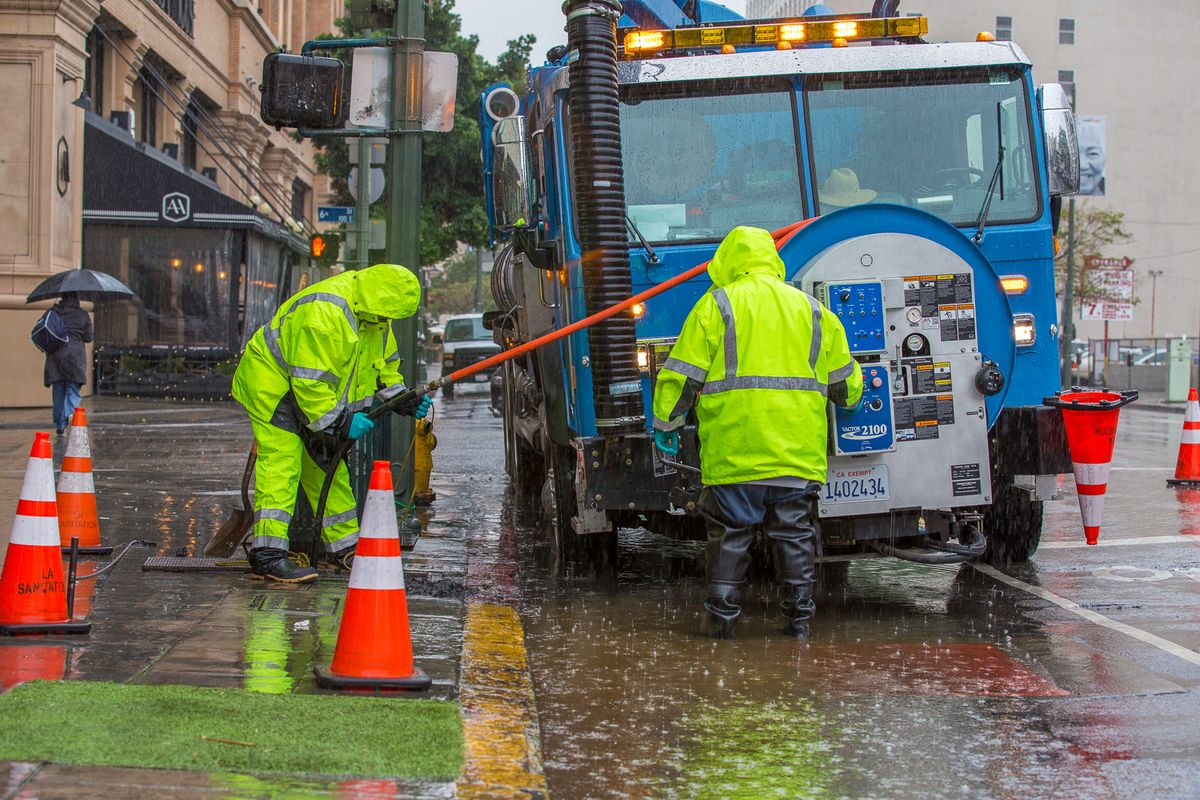no_safety_vest: (27, 299, 110, 381)
person: (647, 204, 889, 652), (221, 243, 440, 661), (16, 243, 160, 484)
safety_cone: (310, 435, 442, 690), (51, 390, 146, 582), (1048, 369, 1134, 546), (8, 421, 74, 651), (1165, 363, 1197, 498)
safety_vest: (674, 283, 843, 480), (230, 255, 393, 432)
truck: (477, 24, 1142, 604)
